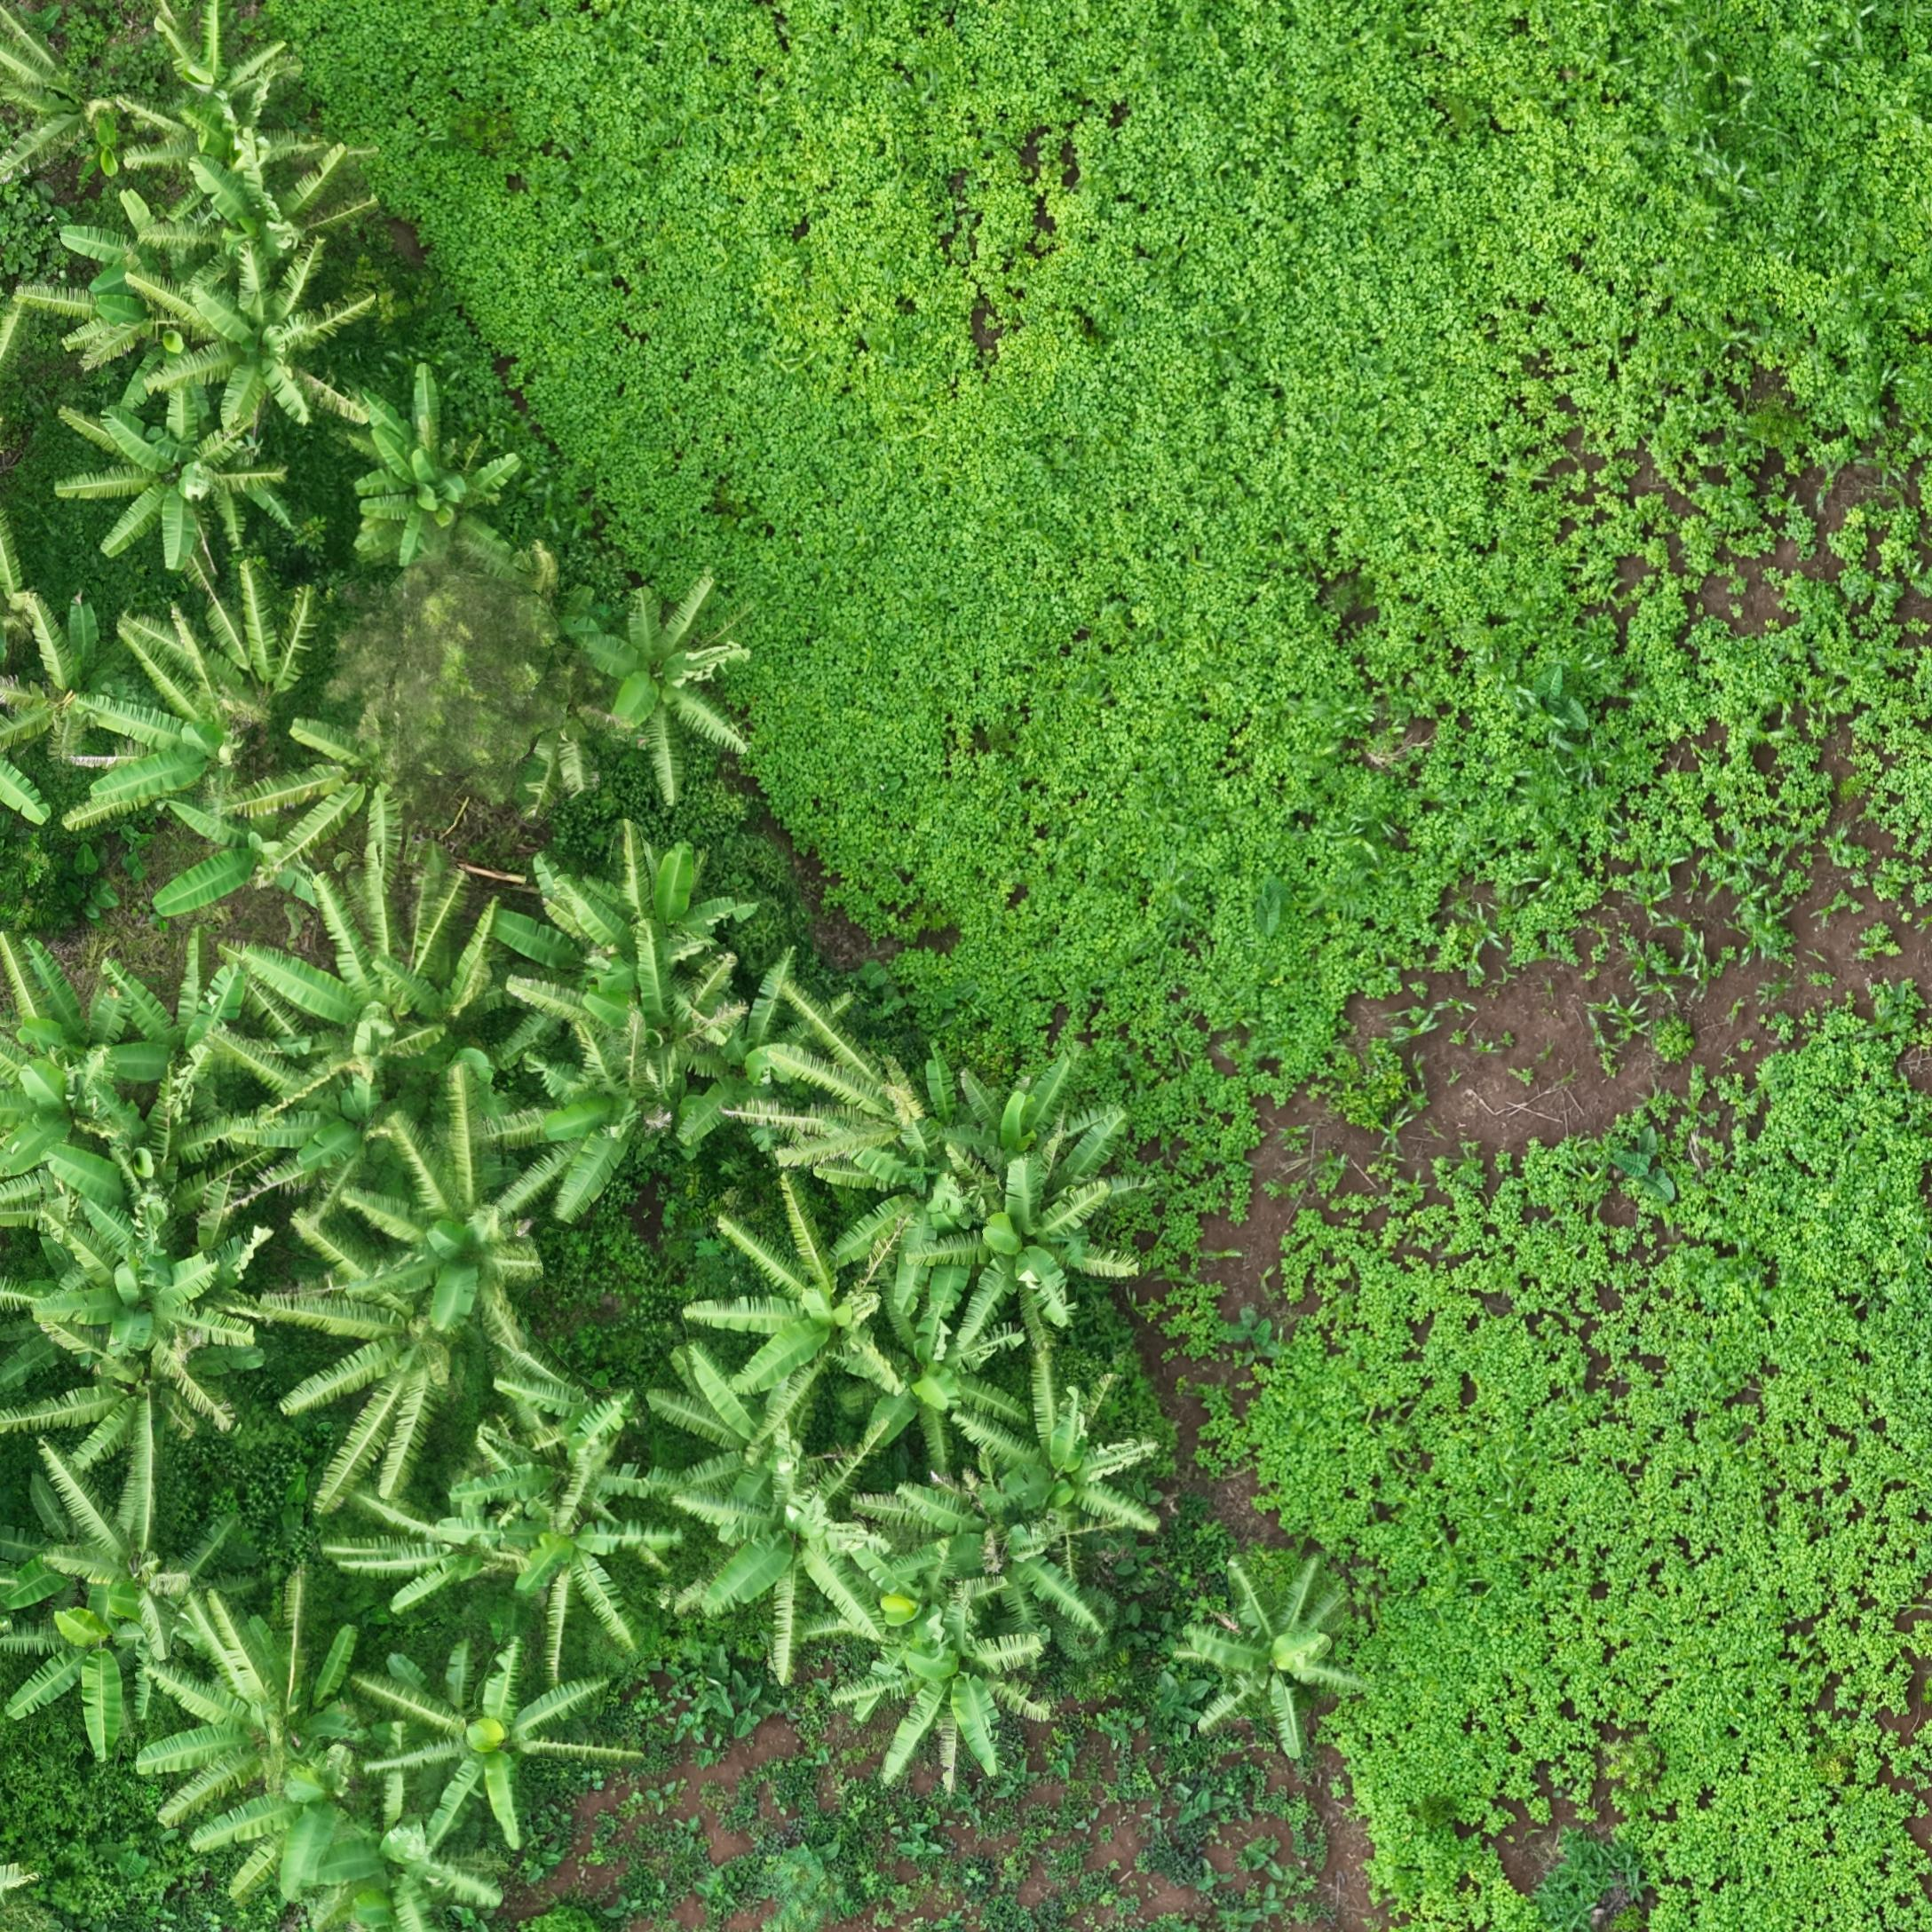Banana: (180, 1635, 389, 1909), (727, 1488, 927, 1725), (382, 1716, 621, 1914), (743, 1256, 952, 1476), (384, 1138, 557, 1394), (964, 1184, 1166, 1401), (354, 403, 554, 607), (184, 258, 382, 453), (1233, 1617, 1419, 1821), (614, 612, 793, 819), (96, 414, 287, 589), (5, 1629, 152, 1824)
